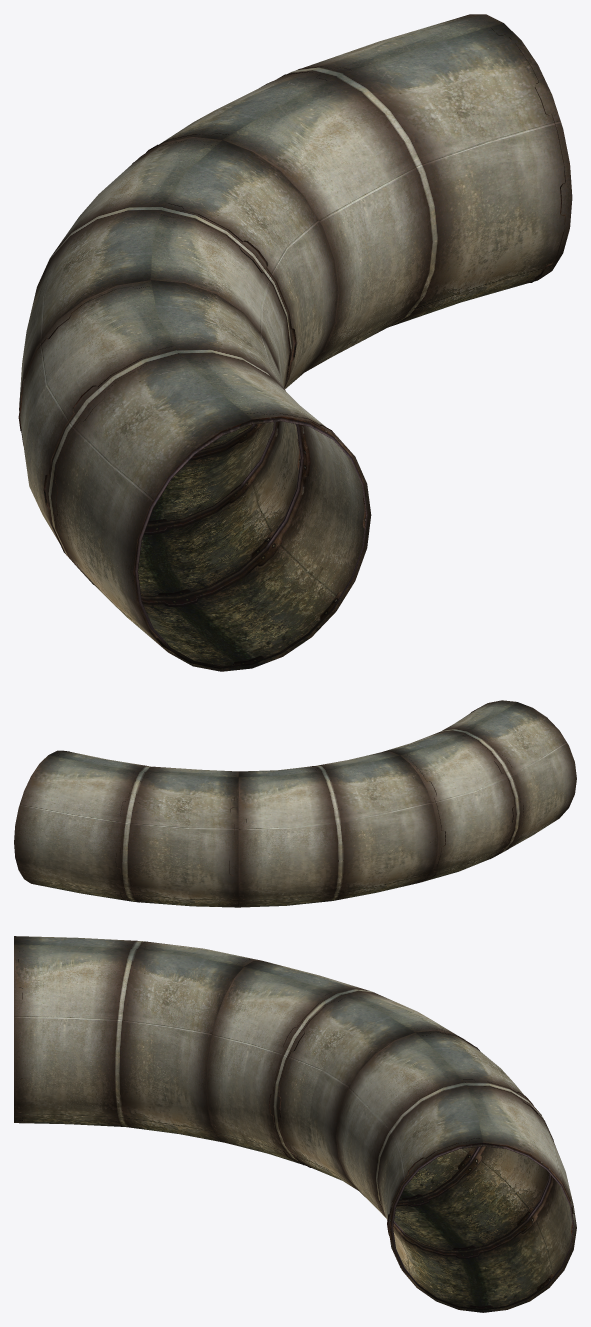
Rendered from flush_tunnel_02_07_turn.dae.
3 views of the same model, one above another, from view 1: azimuth 30°, elevation 25°; view 2: azimuth 150°, elevation 25°; view 3: azimuth 270°, elevation 25° (orthographic). The views are drawn at different scales.
Parts seen in each view (by area): view 1: polySurface606; view 2: polySurface606; view 3: polySurface606.
Part boxes in pixels (bbox=[...]): polySurface606: bbox=[18, 14, 572, 671]; polySurface606: bbox=[14, 700, 576, 907]; polySurface606: bbox=[14, 936, 576, 1312].
Bounding box in the file's own units: 12 × 4 × 12.
